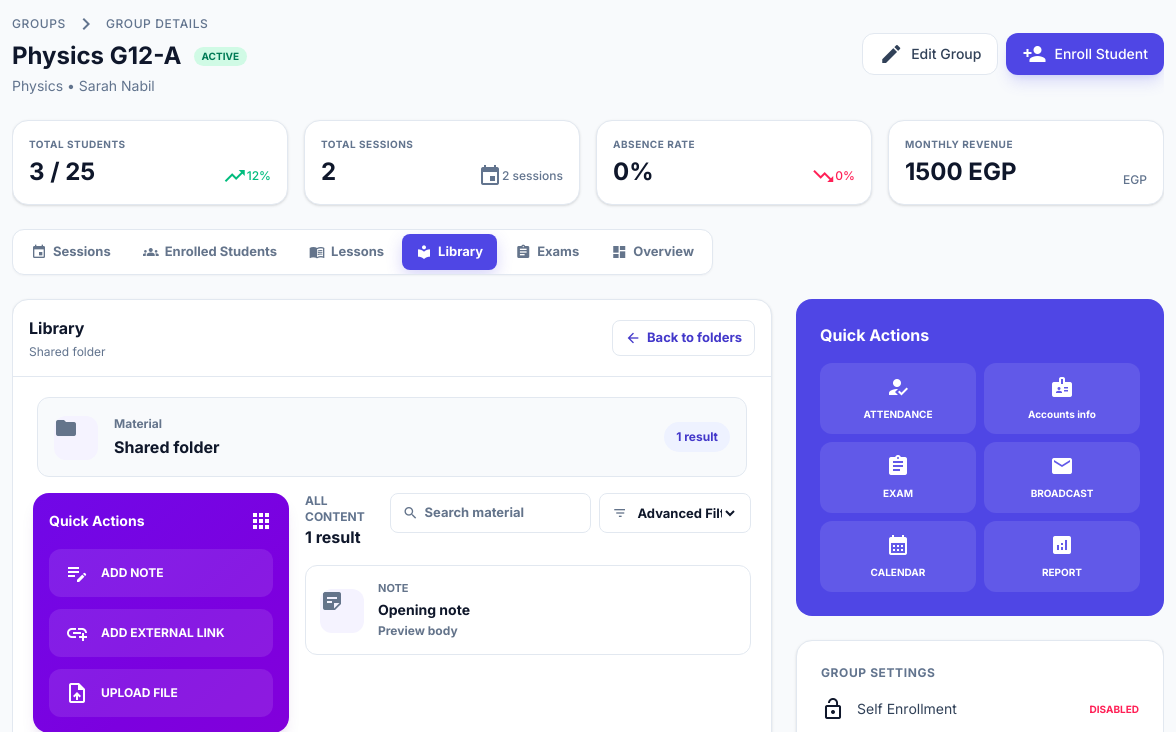
Scenario: TenantGroupDetailsComponent › opens library note content in the editor and saves changes when the card is clicked
Click the button with class "tenant-group-library-content-card". click: x=342, y=611
box: [305, 565, 751, 654]
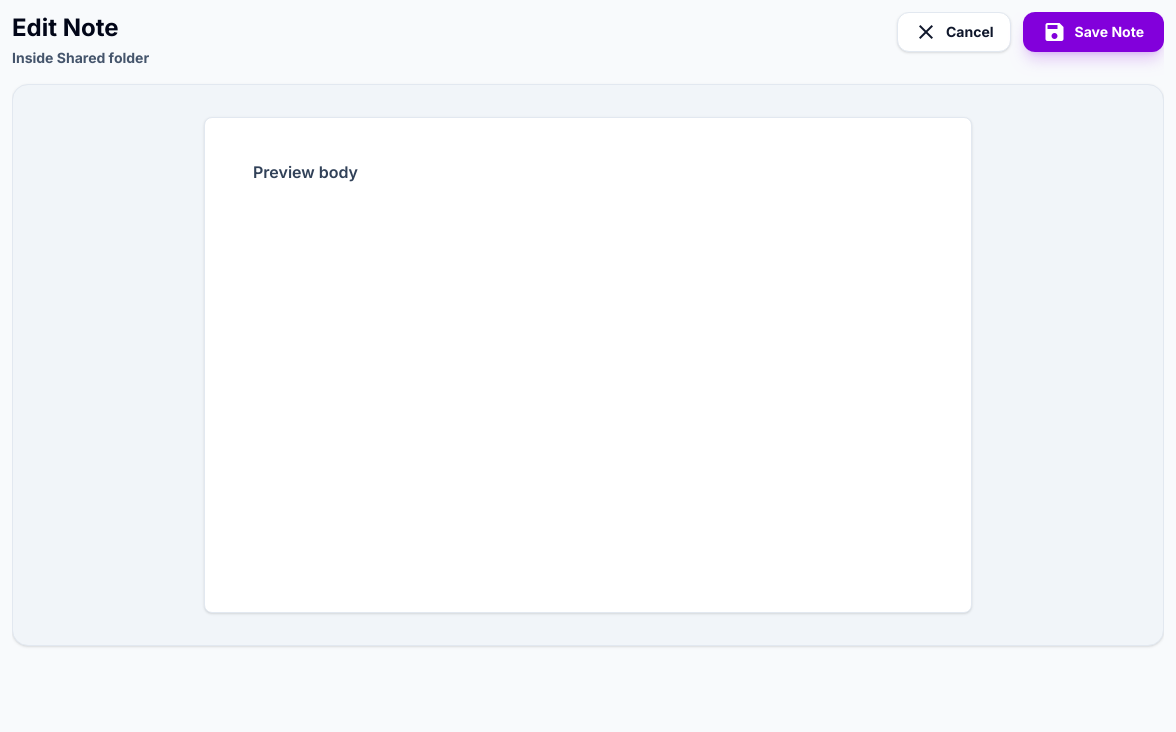
expect the text "Edit Note" is shown: met, box [12, 13, 118, 42]
expect the text box with id "group-library-note-content" holds "Preview body": met, box [253, 158, 923, 558]
